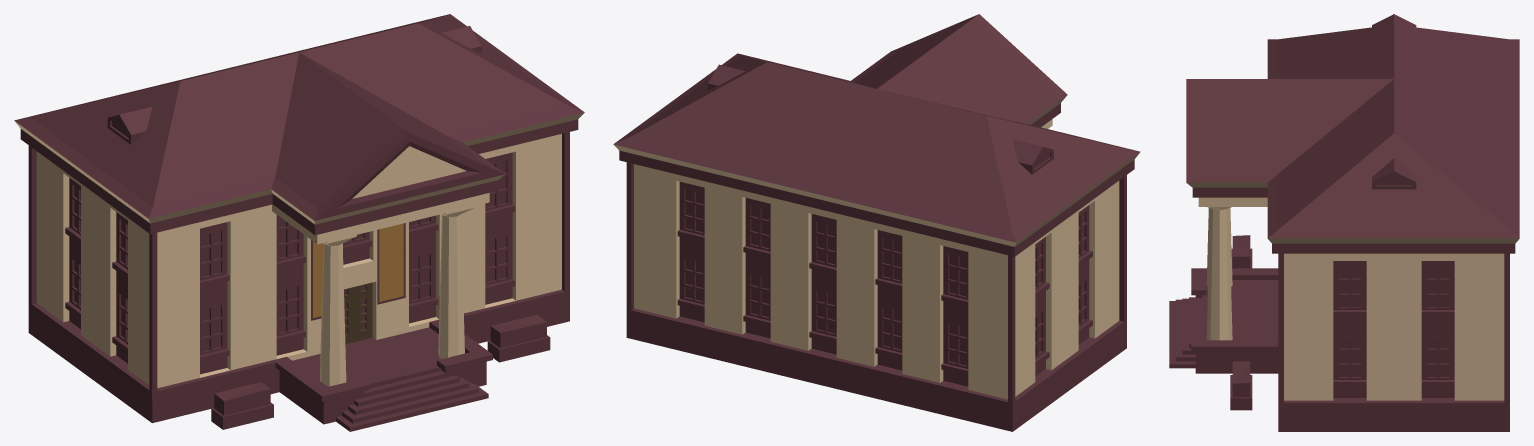
Rendered from building-museum.fbx.
3 views of the same model, side by side, from view 1: azimuth 30°, elevation 25°; view 2: azimuth 150°, elevation 25°; view 3: azimuth 270°, elevation 25° (orthographic). The views are drawn at different scales.
Parts seen in each view (by area): view 1: building-museum; view 2: building-museum; view 3: building-museum.
Boxes of the visible parts, box(x1,y1,x2,y2) form: building-museum: box(14, 14, 584, 431); building-museum: box(613, 14, 1140, 431); building-museum: box(1169, 14, 1519, 431).
Size of the model in its own units: 21.41 by 12.89 by 15.9.
